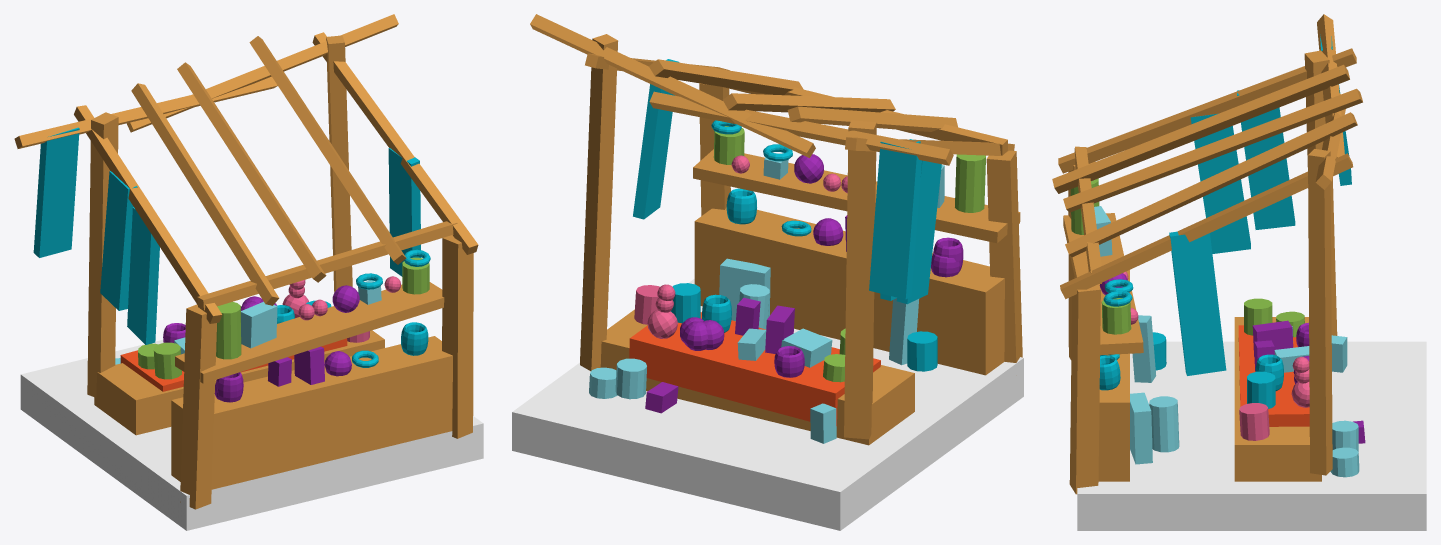
Rendered from Store.fbx.
3 views of the same model, side by side, from view 1: azimuth 30°, elevation 25°; view 2: azimuth 150°, elevation 25°; view 3: azimuth 270°, elevation 25° (orthographic). The views are drawn at different scales.
Parts seen in each view (by area): view 1: mesh_2024963778, mesh_1476177713, mesh_605519052, mesh_1018121352, mesh_2041027046, mesh_1028770645, mesh_1534521218, mesh_1154881405, mesh_1936815016, mesh_399936770, mesh_1590167709, mesh_1060787574 (+19 smaller); view 2: mesh_1476177713, mesh_2024963778, mesh_583962546, mesh_1028770645, mesh_399936770, mesh_1154881405, mesh_1534521218, mesh_605519052, mesh_1018121352, mesh_1575300621, mesh_251179337, mesh_1192948823 (+30 smaller); view 3: mesh_1476177713, mesh_399936770, mesh_2041027046, mesh_1192948823, mesh_1936815016, mesh_1475719136, mesh_952082957, mesh_1534521218, mesh_1590167709, mesh_1060787574, mesh_2024963778, mesh_1079646994 (+25 smaller).
Part boxes in pixels (x1,y1,x2,y2): mesh_2024963778: (171, 336, 452, 489); mesh_1476177713: (20, 340, 483, 530); mesh_605519052: (175, 282, 444, 383); mesh_1018121352: (180, 304, 216, 509); mesh_2041027046: (442, 235, 473, 438); mesh_1028770645: (87, 112, 118, 397); mesh_1534521218: (94, 330, 384, 435); mesh_1154881405: (33, 127, 79, 257); mesh_1936815016: (131, 83, 279, 305); mesh_399936770: (326, 35, 352, 291); mesh_1590167709: (312, 32, 478, 254); mesh_1060787574: (74, 105, 222, 323); mesh_1476177713: (512, 279, 1023, 530); mesh_2024963778: (694, 207, 1004, 375); mesh_583962546: (629, 312, 880, 426); mesh_1028770645: (844, 120, 876, 439); mesh_399936770: (580, 34, 618, 371); mesh_1154881405: (869, 141, 921, 299); mesh_1534521218: (600, 309, 914, 445); mesh_605519052: (693, 149, 1020, 243); mesh_1018121352: (986, 150, 1022, 362); mesh_1575300621: (530, 14, 815, 157); mesh_251179337: (649, 91, 953, 165); mesh_1192948823: (633, 59, 679, 219); mesh_1476177713: (1077, 341, 1426, 530); mesh_399936770: (1308, 149, 1332, 475); mesh_2041027046: (1069, 284, 1100, 494); mesh_1192948823: (1169, 231, 1226, 375); mesh_1936815016: (1052, 64, 1349, 193); mesh_1475719136: (1063, 88, 1362, 212); mesh_952082957: (1065, 112, 1357, 257); mesh_1534521218: (1234, 317, 1321, 481); mesh_1590167709: (1060, 153, 1353, 299); mesh_1060787574: (1058, 48, 1356, 173); mesh_2024963778: (1098, 270, 1129, 481); mesh_1079646994: (1190, 113, 1250, 253).
Size of the model in its own units: 78.84 by 70.31 by 64.34.
